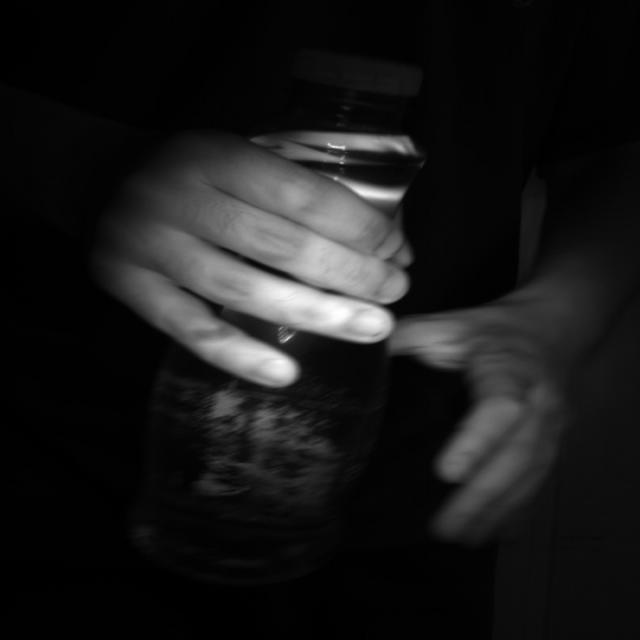Not Good: (273, 43, 425, 109)
